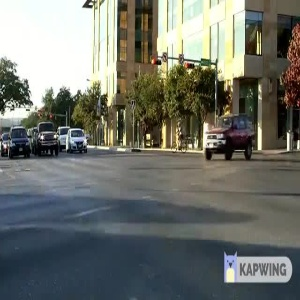car: (65, 125, 88, 157)
suv: (193, 109, 259, 165)
truck: (32, 120, 62, 160)
van: (5, 120, 34, 159)
